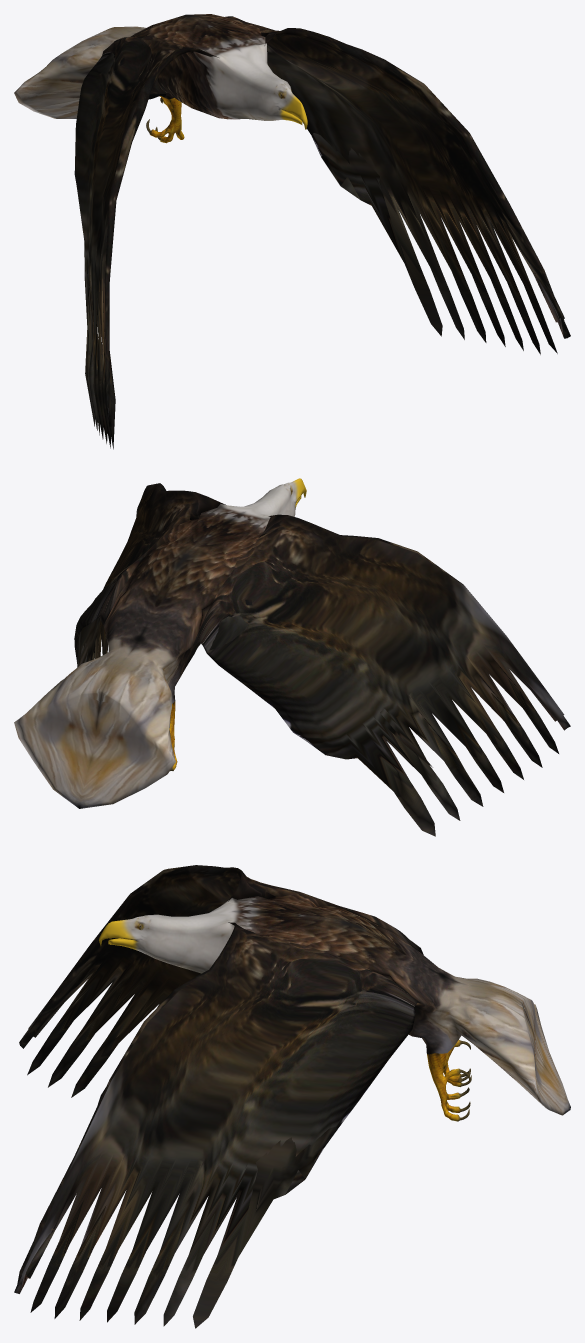
Rendered from Eagle-original_000018.obj.
3 renders of one model, top to bottom at view 1: azimuth 30°, elevation 25°; view 2: azimuth 150°, elevation 25°; view 3: azimuth 270°, elevation 25°, orthographic. The views are drawn at different scales.
Parts seen in each view (by area): view 1: Flugel_Plane.003; view 2: Flugel_Plane.003; view 3: Flugel_Plane.003.
Part boxes in pixels (bbox=[...]): Flugel_Plane.003: bbox=[14, 14, 570, 449]; Flugel_Plane.003: bbox=[14, 478, 570, 836]; Flugel_Plane.003: bbox=[14, 865, 570, 1328].
Size of the model in its own units: 6.42 by 4.41 by 6.59.
Materials: 1 (1 with a texture image).
